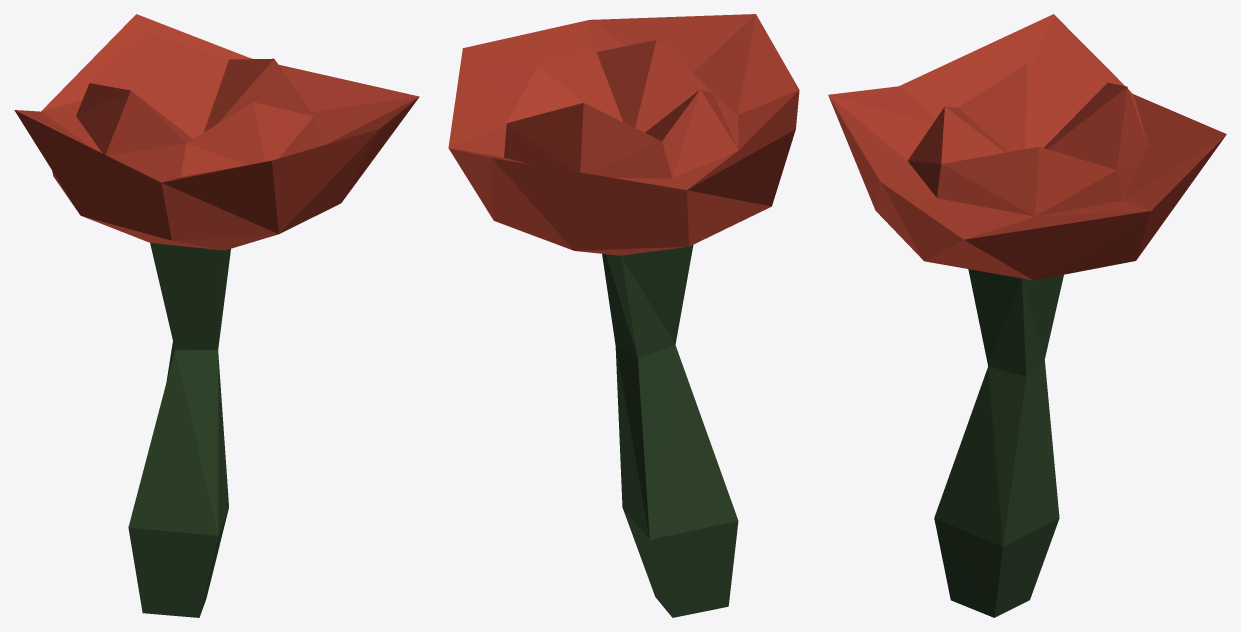
The model's file is SM_Env_Flower_08.fbx.
3 views of the same model, side by side, from view 1: azimuth 30°, elevation 25°; view 2: azimuth 150°, elevation 25°; view 3: azimuth 270°, elevation 25° (orthographic). The views are drawn at different scales.
Visible parts, largest first — view 1: SM_Env_Flower_08; view 2: SM_Env_Flower_08; view 3: SM_Env_Flower_08.
Part boxes in pixels (x1=…): SM_Env_Flower_08: x1=14, y1=14, x2=419, y2=617; SM_Env_Flower_08: x1=448, y1=14, x2=799, y2=617; SM_Env_Flower_08: x1=828, y1=14, x2=1226, y2=617.
Bounding box in the file's own units: 0.00234 × 0.00321 × 0.00218.
Materials: 1 (1 with a texture image).
